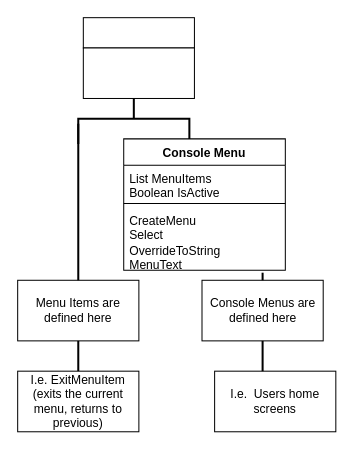
The diagram is 354 pixels wide and 449 high, and some of its shapes have lost their labels. Each missing label, with the centre of its shape:
"Abstract String MenuItem Abstract Void Select" goes at [138,72].
"«interface» Menu Item" goes at [138,32].
